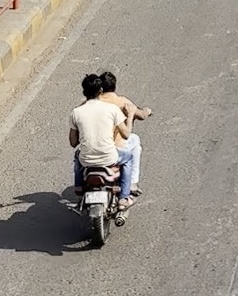BikeWithRider: (62, 65, 155, 249)
NoHelmet: (77, 71, 105, 101), (96, 68, 119, 94)
